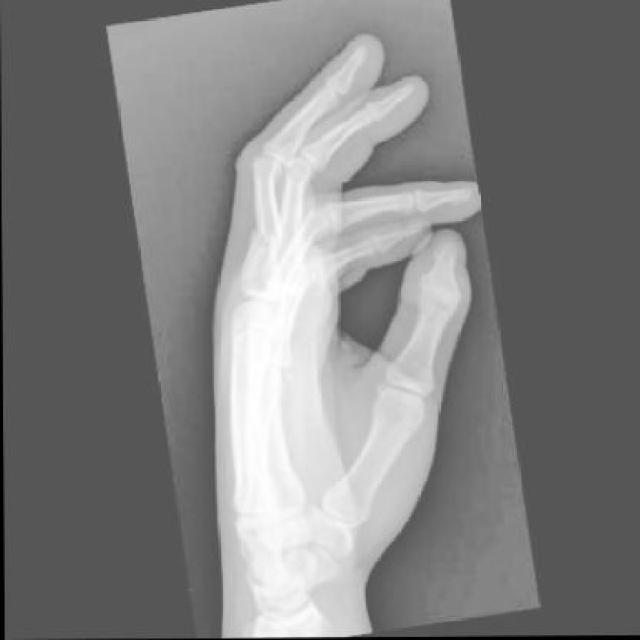Fracture: (243, 220, 279, 259), (257, 243, 297, 277)
